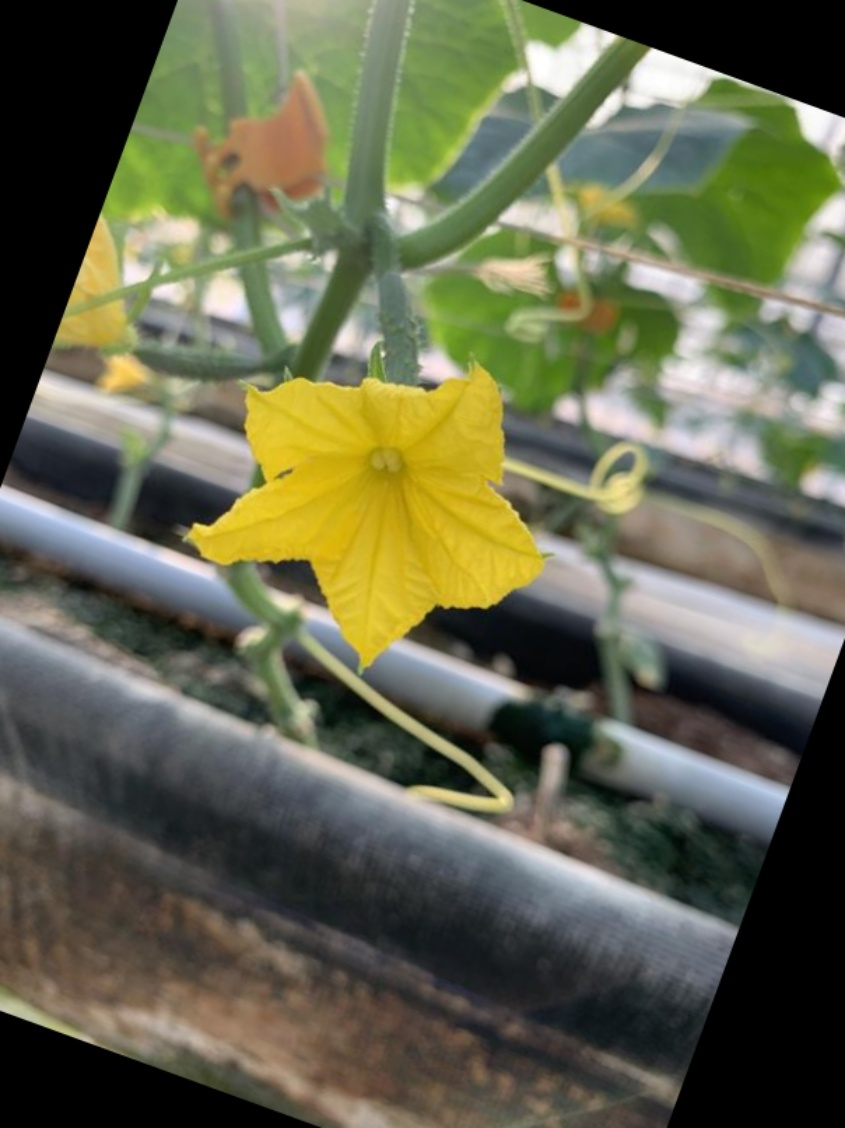flowering: (183, 244, 635, 665)
mature: (183, 242, 637, 665)
